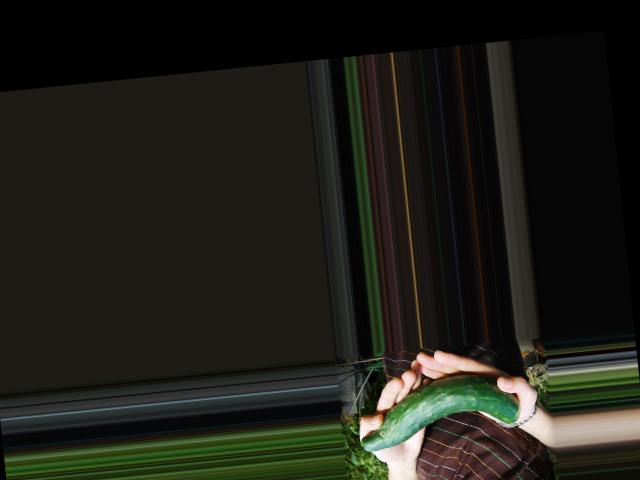cucumber: (356, 369, 523, 452)
